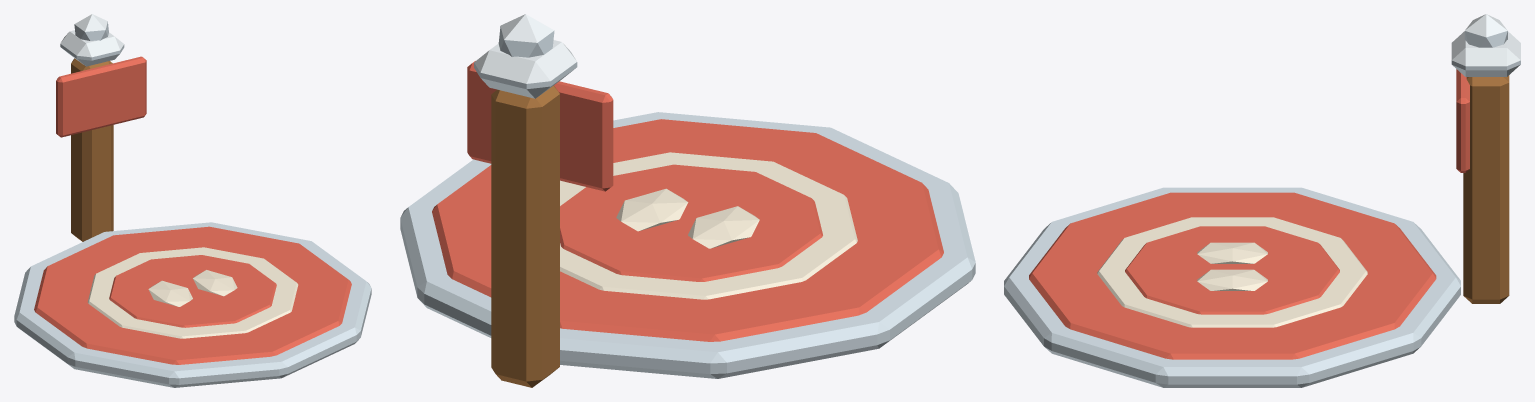
File: ready_pad.glb
3 views of the same model, side by side, from view 1: azimuth 30°, elevation 25°; view 2: azimuth 150°, elevation 25°; view 3: azimuth 270°, elevation 25° (orthographic). The views are drawn at different scales.
Visible parts, largest first — view 1: ready_pad; view 2: ready_pad; view 3: ready_pad.
Boxes of the visible parts, x1,y1,x2,y2 form: ready_pad: [14, 14, 371, 387]; ready_pad: [400, 14, 975, 387]; ready_pad: [1004, 14, 1520, 387].
Size of the model in its own units: 0.9511 by 0.68 by 1.12.
